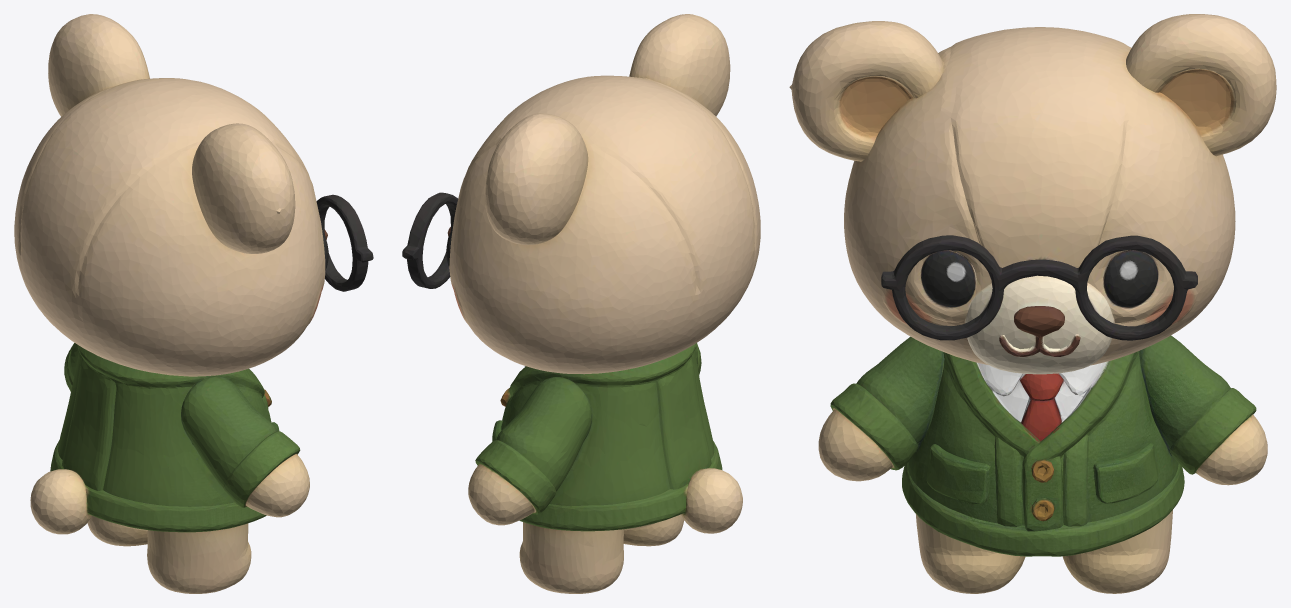
File: toy_19.glb
The picture shows the model from 3 angles, left to right: view 1: azimuth 30°, elevation 25°; view 2: azimuth 150°, elevation 25°; view 3: azimuth 270°, elevation 25°; orthographic projection. The views are drawn at different scales.
Visible parts, largest first — view 1: tripo_node_e091a822-a200-4129-865d-628dbb1a7bc6; view 2: tripo_node_e091a822-a200-4129-865d-628dbb1a7bc6; view 3: tripo_node_e091a822-a200-4129-865d-628dbb1a7bc6.
Part boxes in pixels (box(x1,y1,x2,y2)): tripo_node_e091a822-a200-4129-865d-628dbb1a7bc6: box(14, 14, 373, 593); tripo_node_e091a822-a200-4129-865d-628dbb1a7bc6: box(402, 14, 760, 593); tripo_node_e091a822-a200-4129-865d-628dbb1a7bc6: box(789, 14, 1276, 593).
Bounding box in the file's own units: 0.6127 × 1 × 0.7922.
1 material, 1 textured.
